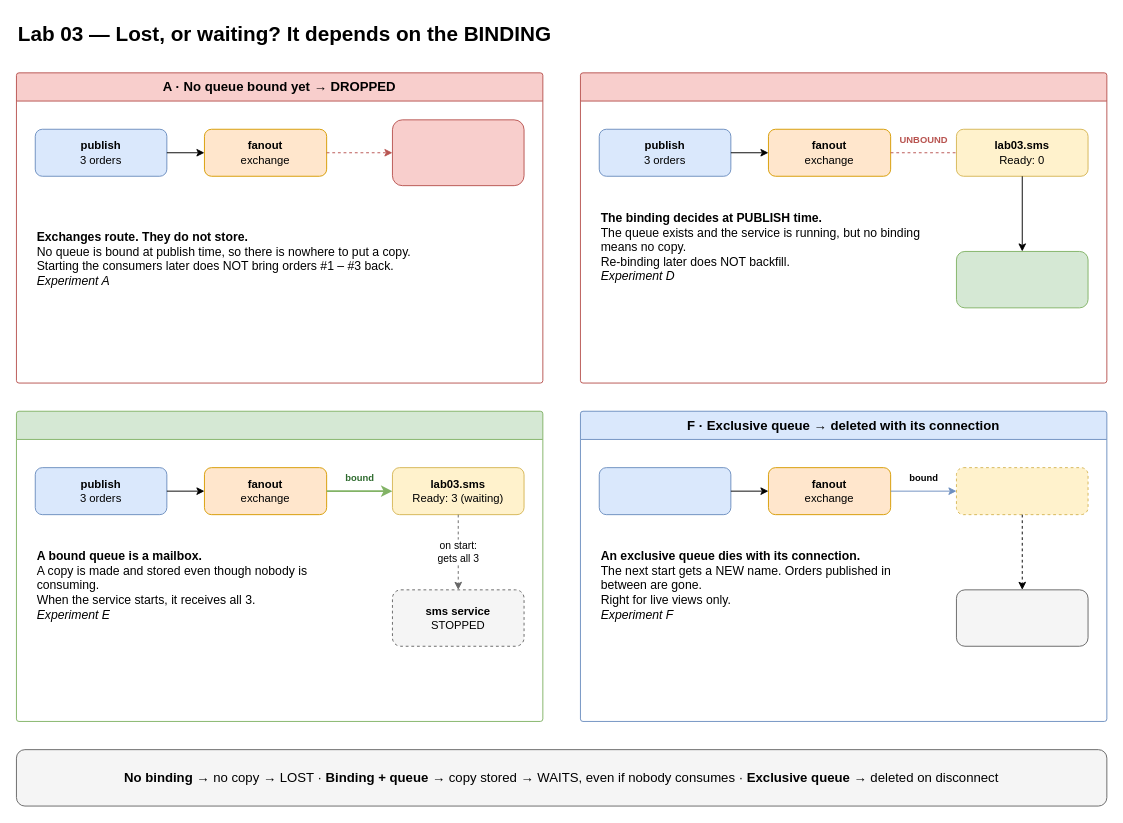
This 1123x823 diagram has some shape labels left out. Here are the shapes that lost their labels. From the top down, the box of each, then its label:
(392, 119, 524, 186): 0 bindings 3 messages DROPPED
(580, 72, 1107, 383): D · Queue exists but is UNBOUND → no copy is made
(956, 251, 1088, 308): sms service running gets nothing
(598, 467, 731, 515): publish orders
(956, 467, 1088, 515): amq.gen-XXXX exclusive
(16, 410, 543, 721): E · Bound, but the service is DOWN → messages WAIT
(956, 589, 1088, 646): DASH Ctrl+C → queue gone
